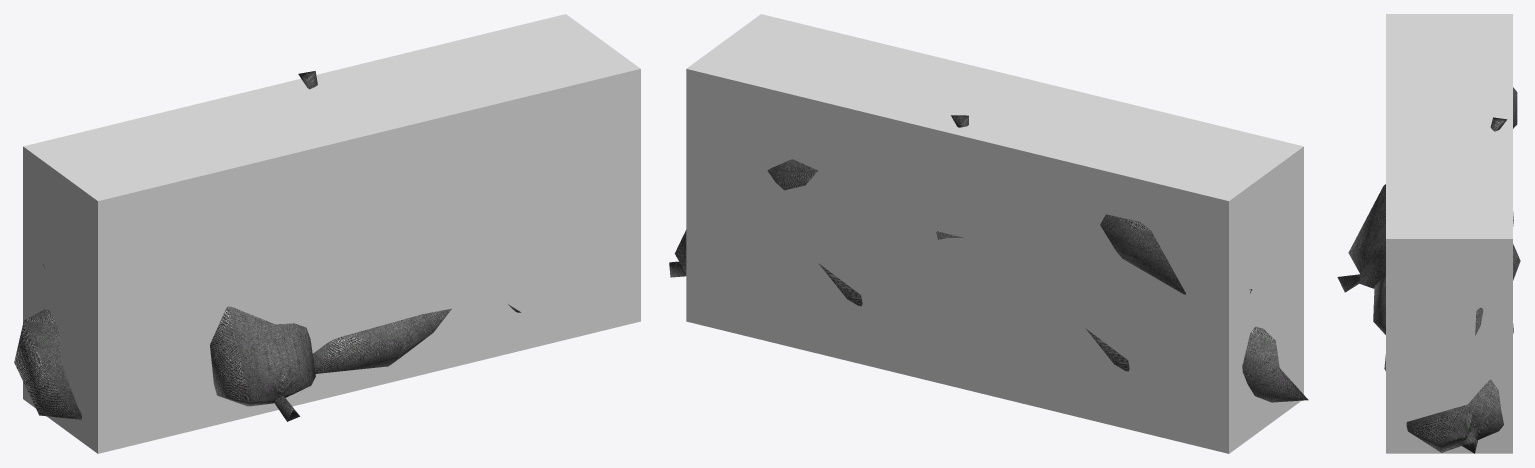
The model's file is support_big_collider.fbx.
3 renders of one model, left to right at view 1: azimuth 30°, elevation 25°; view 2: azimuth 150°, elevation 25°; view 3: azimuth 270°, elevation 25°, orthographic. The views are drawn at different scales.
Visible parts, largest first — view 1: px_main_mesh, main_mesh; view 2: px_main_mesh, main_mesh; view 3: px_main_mesh, main_mesh.
Boxes of the visible parts, box(x1,y1,x2,y2) form: px_main_mesh: box(23, 14, 640, 453); main_mesh: box(14, 71, 520, 421); px_main_mesh: box(686, 14, 1303, 453); main_mesh: box(669, 115, 1308, 402); px_main_mesh: box(1386, 14, 1512, 453); main_mesh: box(1337, 87, 1520, 453).
Bounding box in the file's own units: 2.26 × 0.9304 × 0.6888.
Materials: 1 (1 with a texture image).
